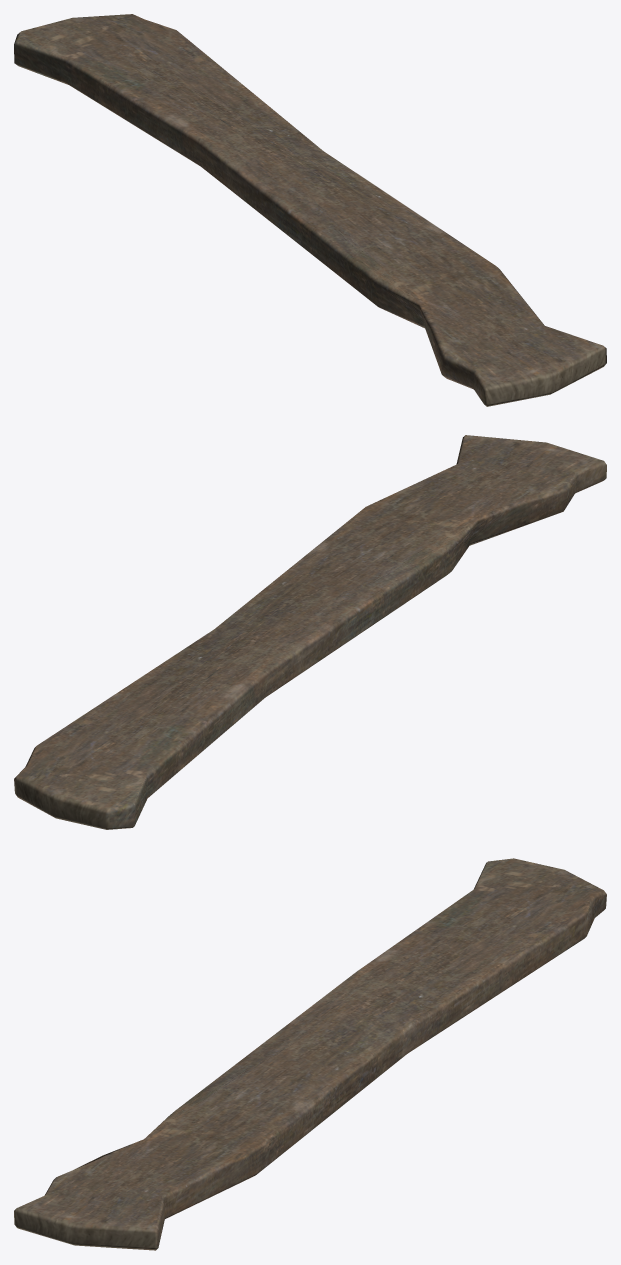
Rendered from SM_Plank_06.fbx.
The picture shows the model from 3 angles, top to bottom: view 1: azimuth 30°, elevation 25°; view 2: azimuth 150°, elevation 25°; view 3: azimuth 330°, elevation 25°; orthographic projection.
Parts seen in each view (by area): view 1: SM_Plank_06_LOD0; view 2: SM_Plank_06_LOD0; view 3: SM_Plank_06_LOD0.
Boxes of the visible parts, <box> form: SM_Plank_06_LOD0: <box>14,14,606,406</box>; SM_Plank_06_LOD0: <box>14,435,606,829</box>; SM_Plank_06_LOD0: <box>14,858,606,1250</box>.
Bounding box in the file's own units: 26.67 × 168 × 7.07.
Materials: 1 (1 with a texture image).
